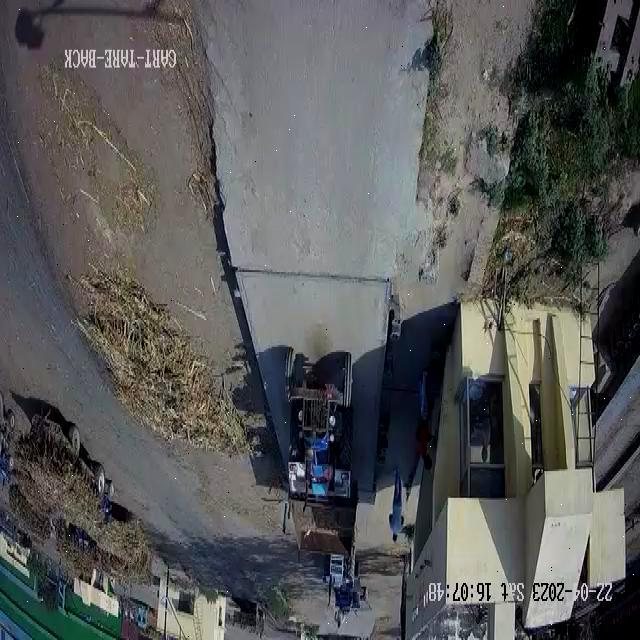Tratores - v5 YOLO V8L 2024-11-13: (284, 338, 358, 510)
